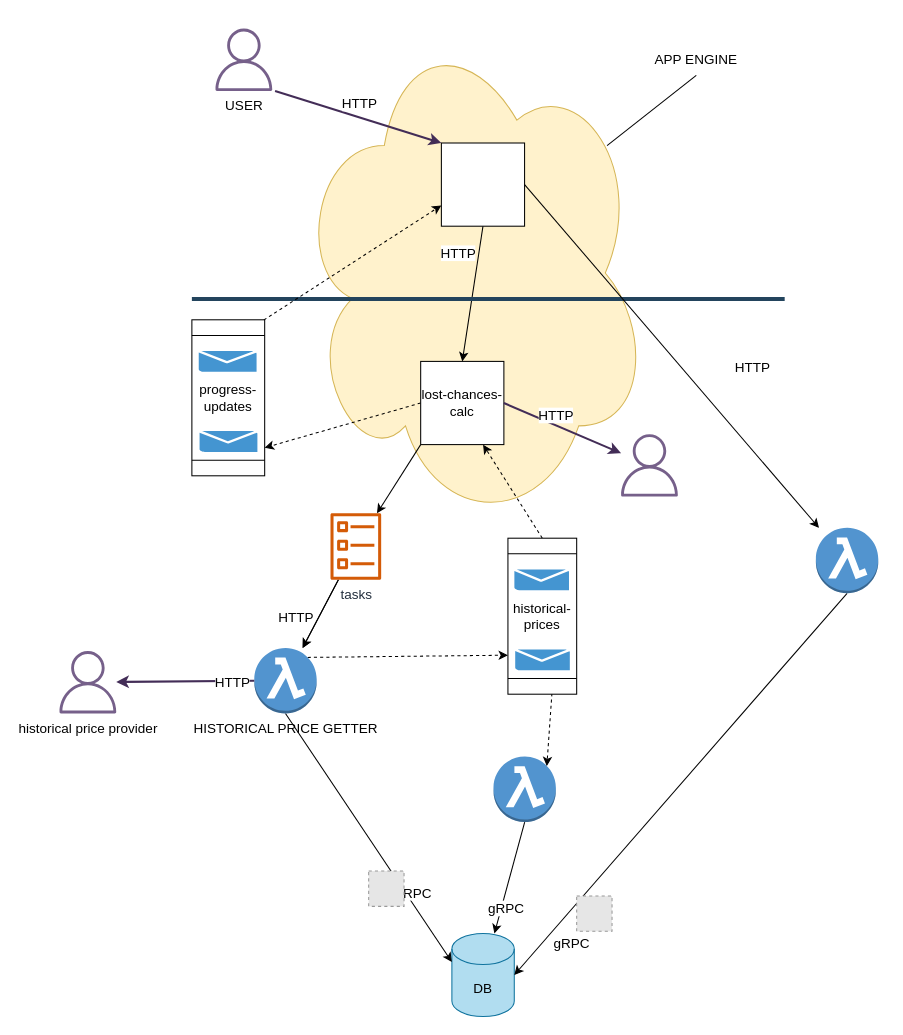
Some shapes in this 903 by 1035 pixel diagram are drawn without their labels. Grey dashed boxes stand in for pictures. The centre of each missing label's shape, as x and y in pixels:
"API" goes at (482,184).
"current price provider" goes at (649,465).
"DB VIEWER" goes at (846,560).
"HISTORICAL PRICE SAVER" goes at (524,789).
